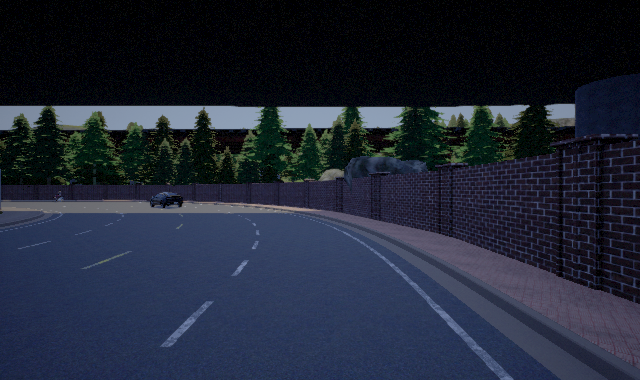vehicle: (150, 192, 183, 208)
